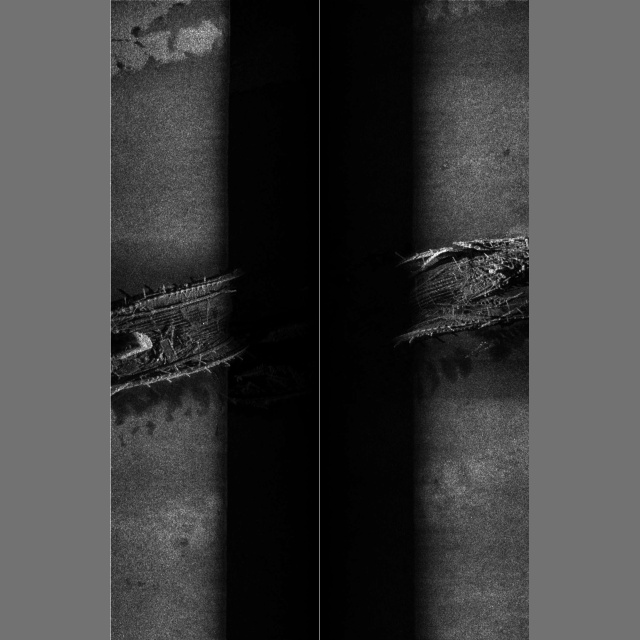Shipwreck: (110, 236, 529, 397)
